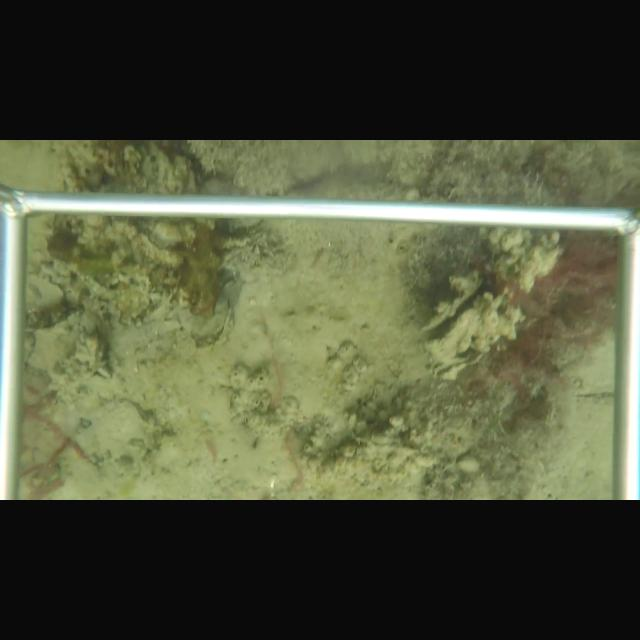Oyster-Closed: (86, 397, 162, 465)
Oyster-Open: (417, 273, 497, 351), (184, 293, 239, 354), (427, 352, 485, 383)
